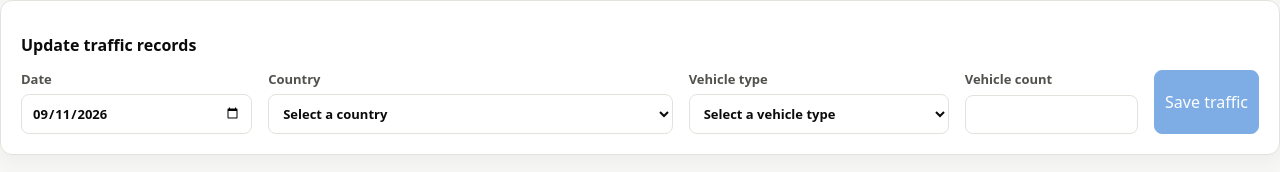
Scenario: RecordTrafficForm › keeps the submit disabled until every field is valid
The image size is (1280, 172).
Check: the button "Save traffic" is disabled, box [1154,70,1259,134]
Select "United States" in the dropdown labelled "Country". click: (470, 114)
box: [268,94,673,134]
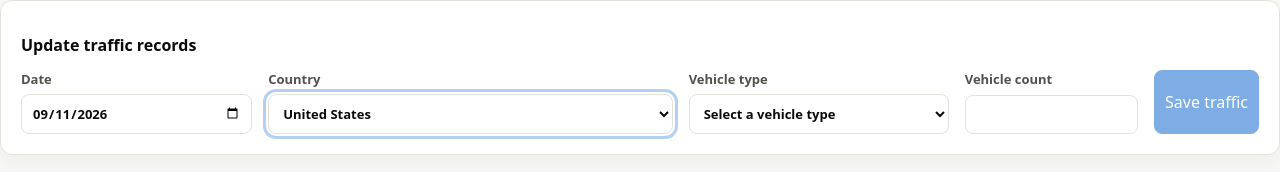
Select "Car" in the dropdown labelled "Vehicle type". click: (819, 114)
box: [689,94,949,134]
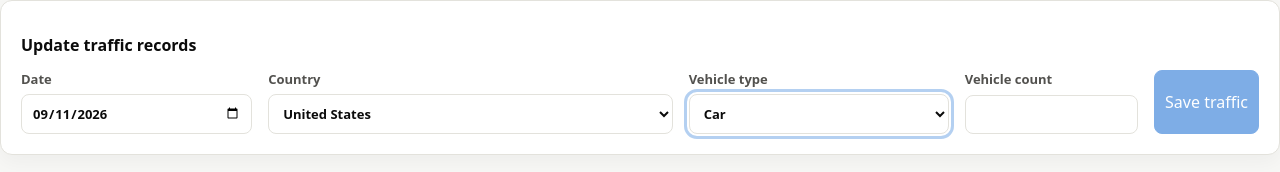
Check: the button "Save traffic" is disabled, box [1154,70,1259,134]
Type "120" into the number field labelled "Vehicle count". click: (1051, 114)
box: [965,94,1138,134]
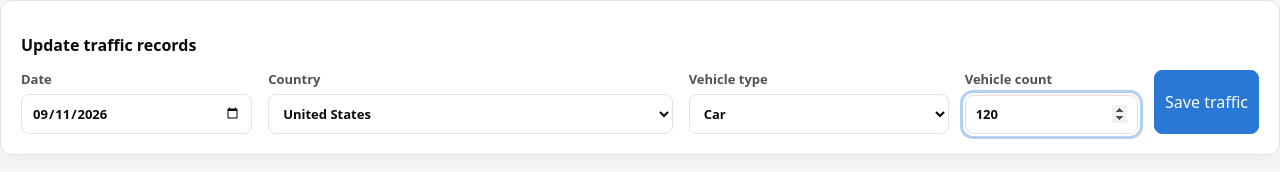
Check: the button "Save traffic" is enabled, box [1154,70,1259,134]
